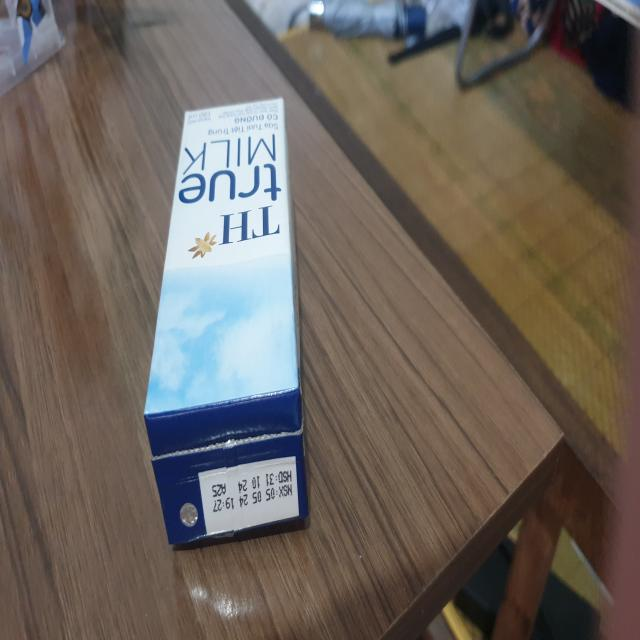TH: (142, 96, 312, 550)
